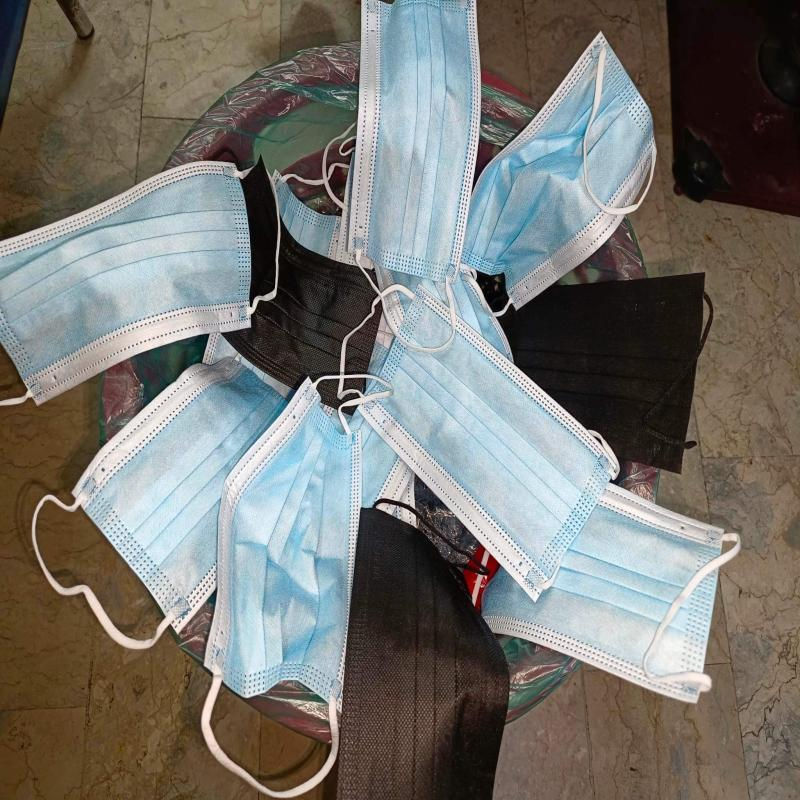facemask: (358, 289, 621, 602), (0, 161, 251, 406), (75, 360, 286, 634), (481, 484, 742, 704), (462, 32, 657, 312), (203, 379, 361, 722), (336, 508, 511, 800), (496, 273, 713, 476), (223, 157, 382, 417), (353, 0, 482, 286)
